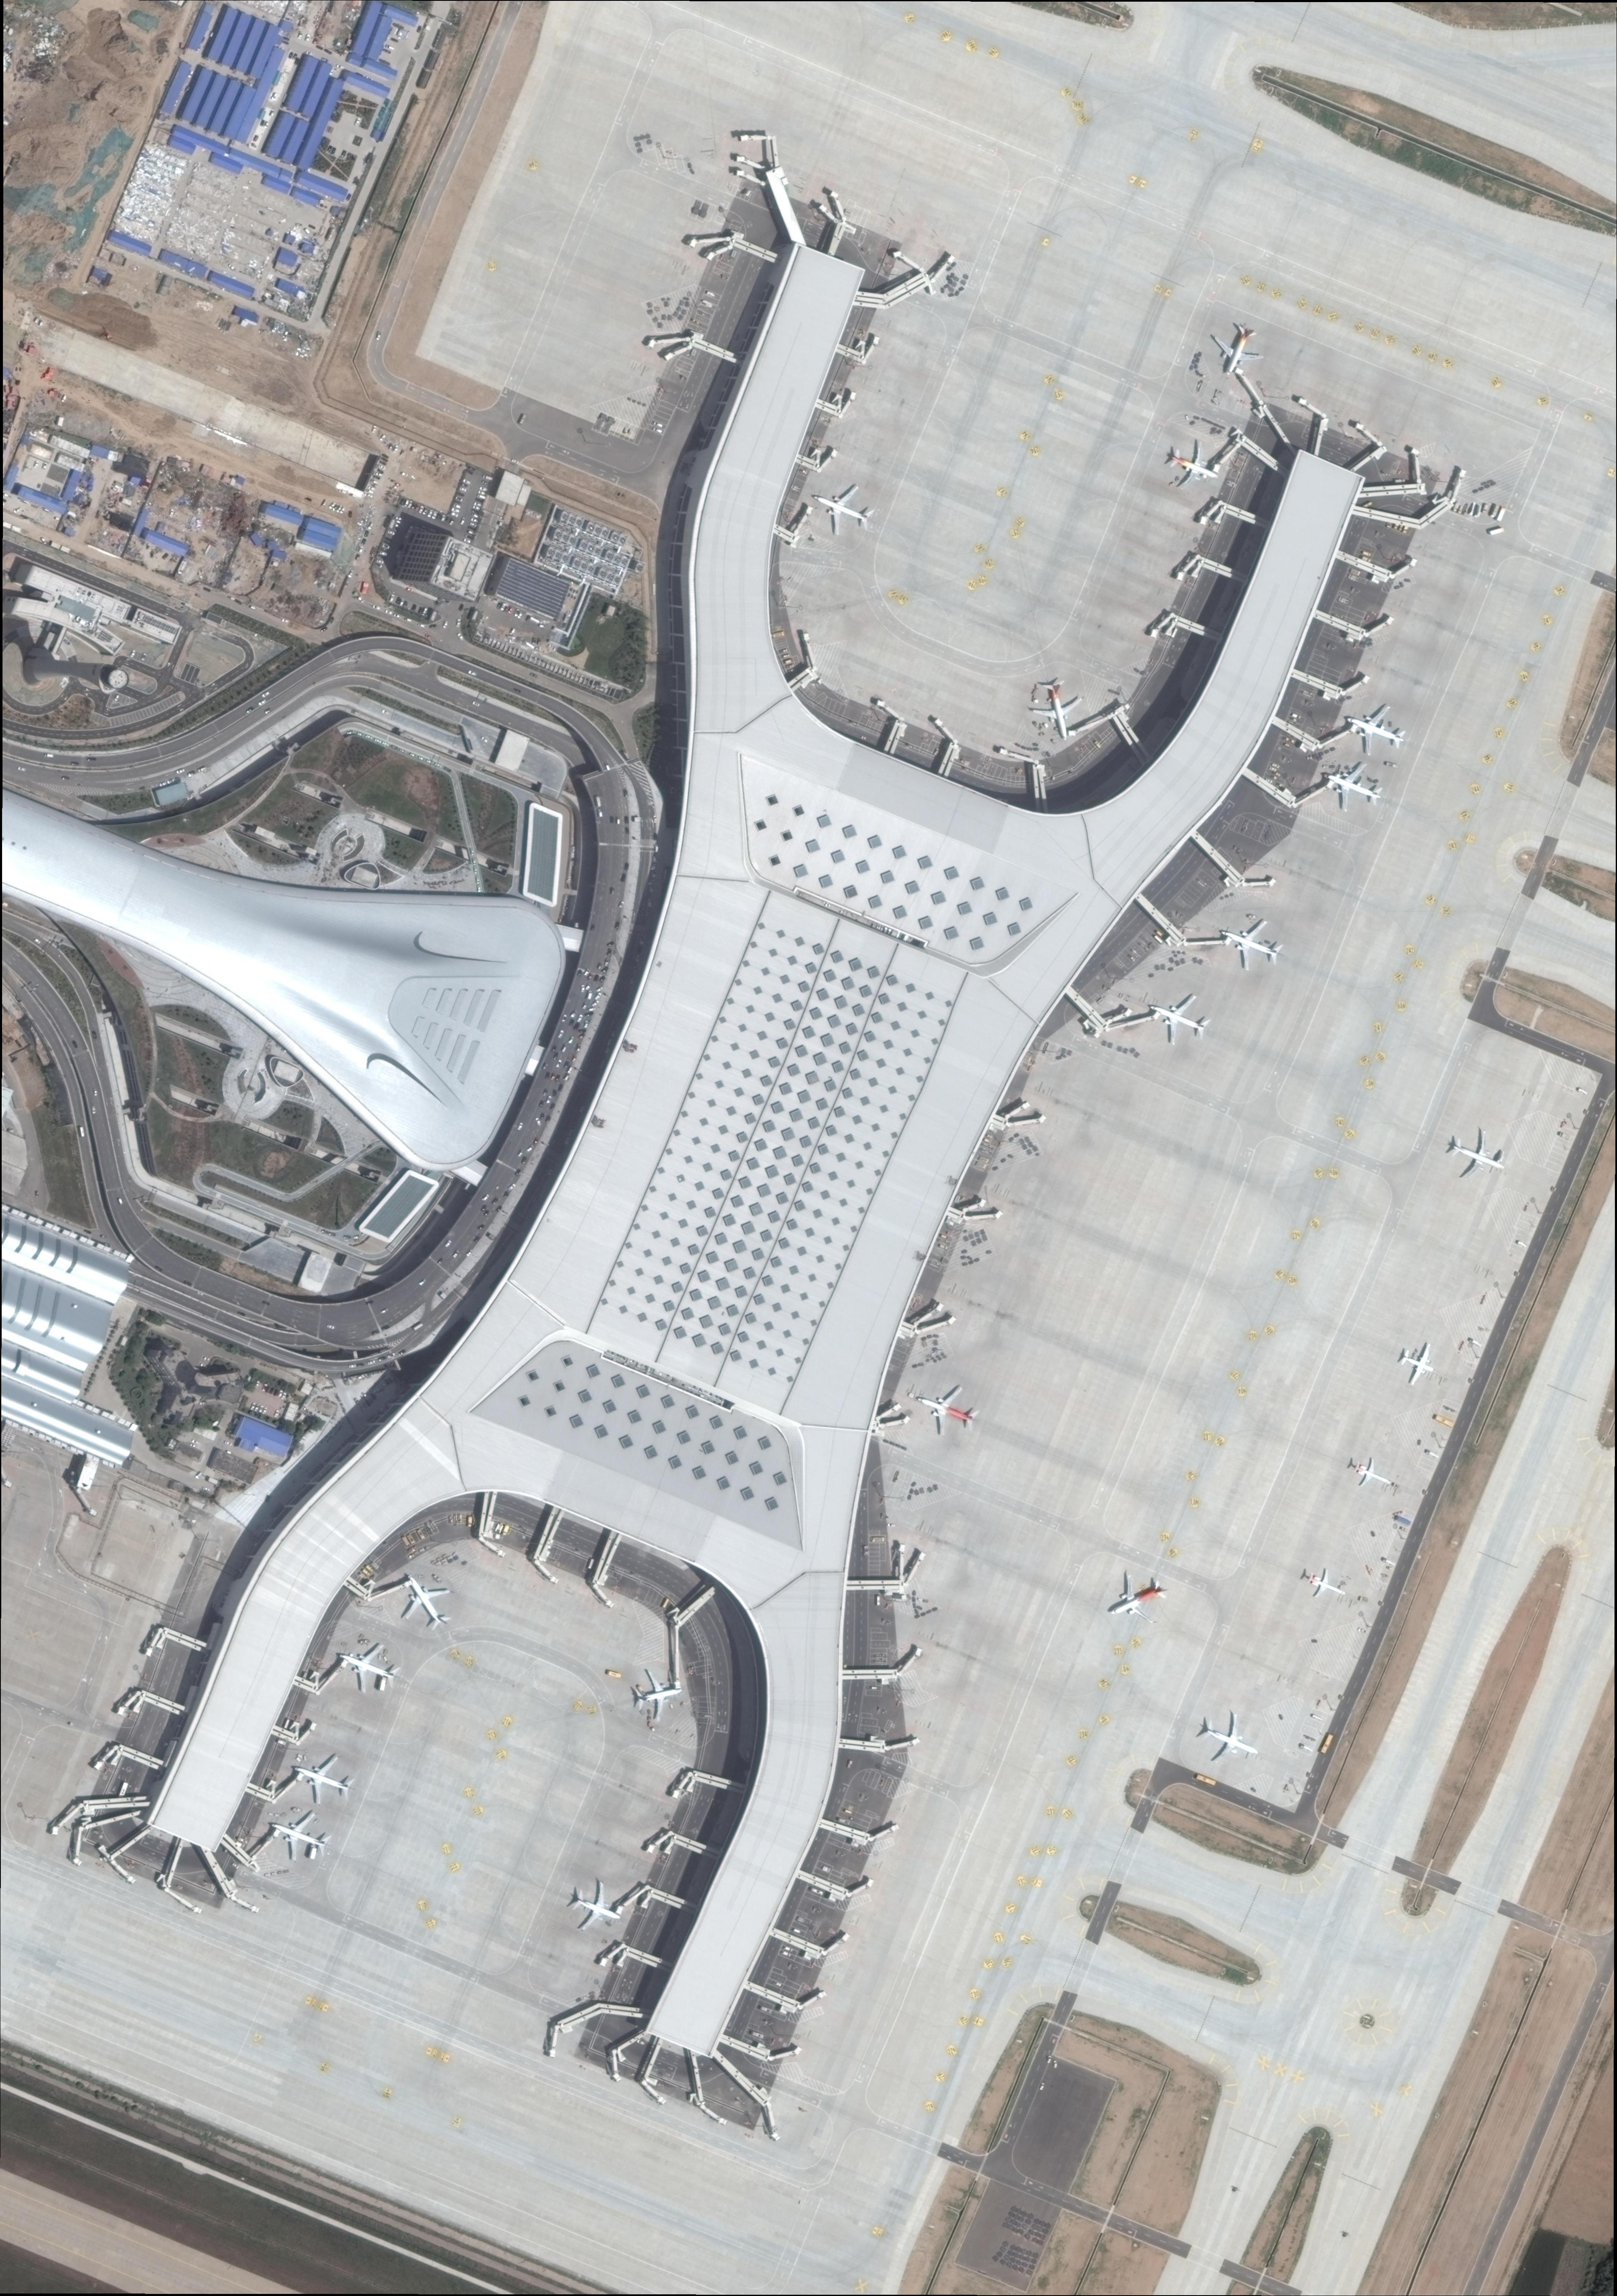plane: (387, 1561, 462, 1640), (1209, 908, 1291, 980), (1314, 751, 1391, 822), (1337, 695, 1416, 765), (1139, 983, 1218, 1053), (908, 1375, 987, 1444), (807, 474, 882, 544), (285, 1745, 360, 1813), (332, 1634, 408, 1703), (1101, 1568, 1176, 1636), (262, 1804, 339, 1871), (1444, 1122, 1512, 1192), (1195, 1708, 1269, 1773), (565, 1876, 630, 1941), (1160, 436, 1225, 499), (1206, 320, 1270, 383), (1029, 675, 1087, 744), (630, 1664, 684, 1724), (1393, 1337, 1444, 1391), (1347, 1454, 1396, 1496), (1302, 1564, 1349, 1606)
